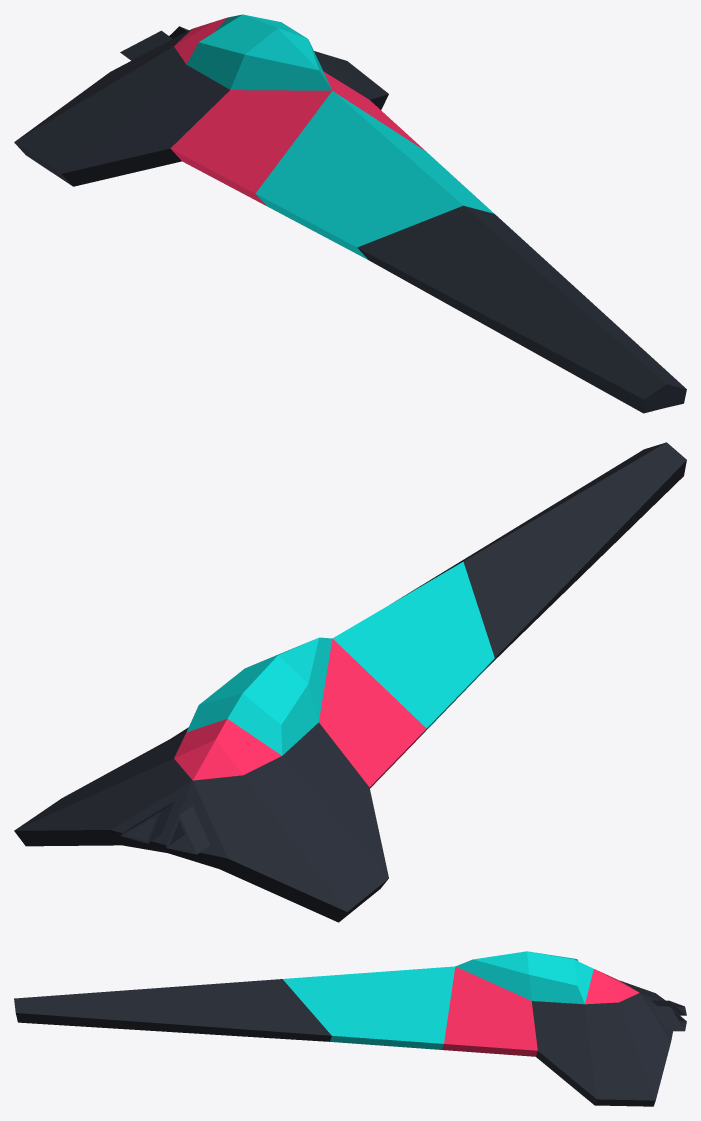
Rendered from AGS.fbx.
The picture shows the model from 3 angles, top to bottom: view 1: azimuth 30°, elevation 25°; view 2: azimuth 150°, elevation 25°; view 3: azimuth 270°, elevation 25°; orthographic projection. The views are drawn at different scales.
Parts seen in each view (by area): view 1: ship 3; view 2: ship 3; view 3: ship 3.
Part boxes in pixels (x1,y1,x2,y2): ship 3: (14, 14, 686, 413); ship 3: (14, 442, 686, 922); ship 3: (14, 951, 686, 1106).
Bounding box in the file's own units: 481 × 219 × 1274.
